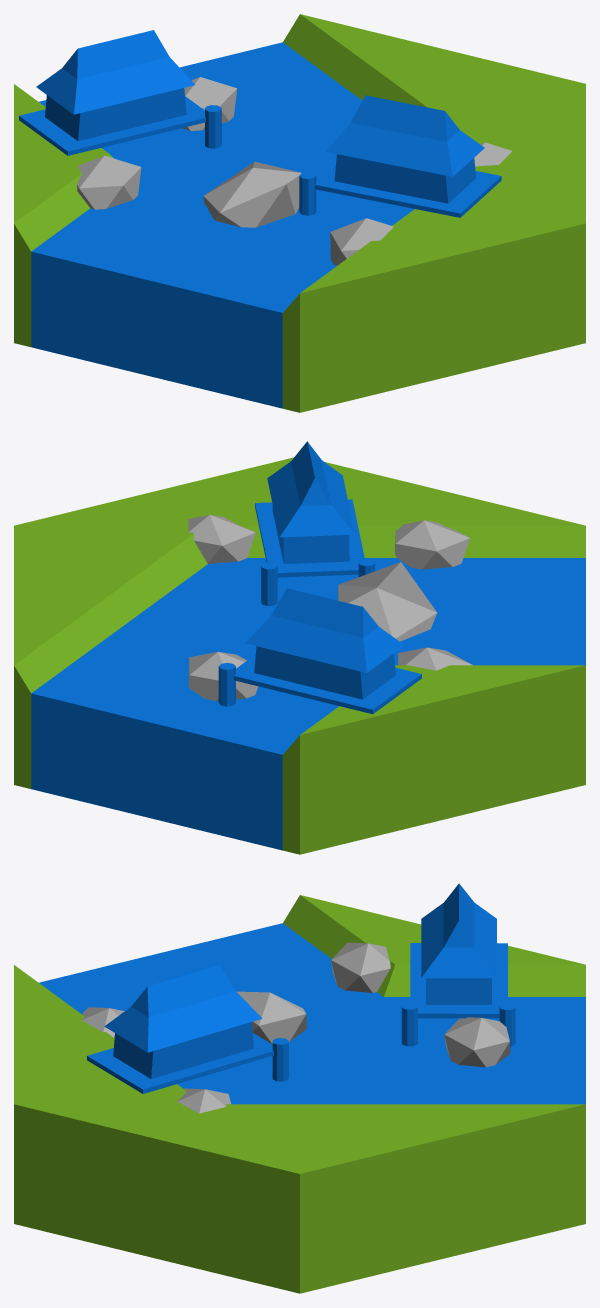
File: Casas_Rio_Curva_2.fbx
The picture shows the model from 3 angles, top to bottom: view 1: azimuth 30°, elevation 25°; view 2: azimuth 150°, elevation 25°; view 3: azimuth 270°, elevation 25°; orthographic projection.
Visible parts, largest first — view 1: Casas_Rio_Curva_2; view 2: Casas_Rio_Curva_2; view 3: Casas_Rio_Curva_2.
Boxes of the visible parts, bbox=[...] form: Casas_Rio_Curva_2: bbox=[14, 14, 585, 412]; Casas_Rio_Curva_2: bbox=[14, 441, 585, 854]; Casas_Rio_Curva_2: bbox=[14, 883, 585, 1293].
Bounding box in the file's own units: 200 × 67.29 × 173.
